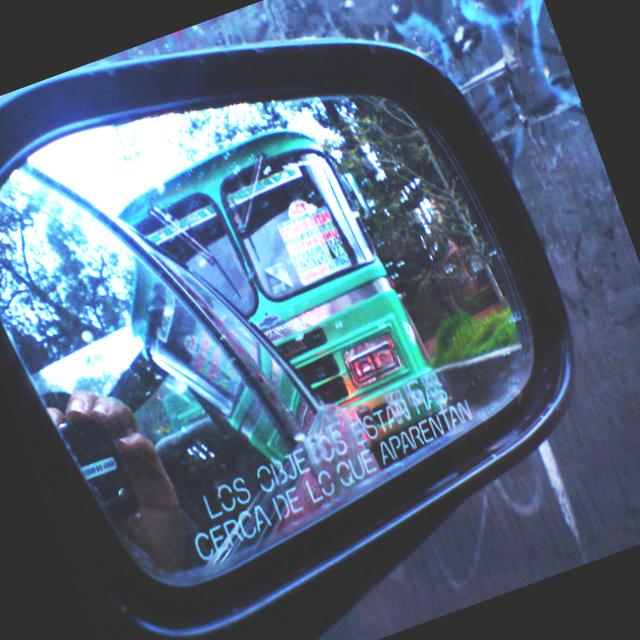Vehicle: (0, 87, 388, 603), (103, 101, 464, 518)
